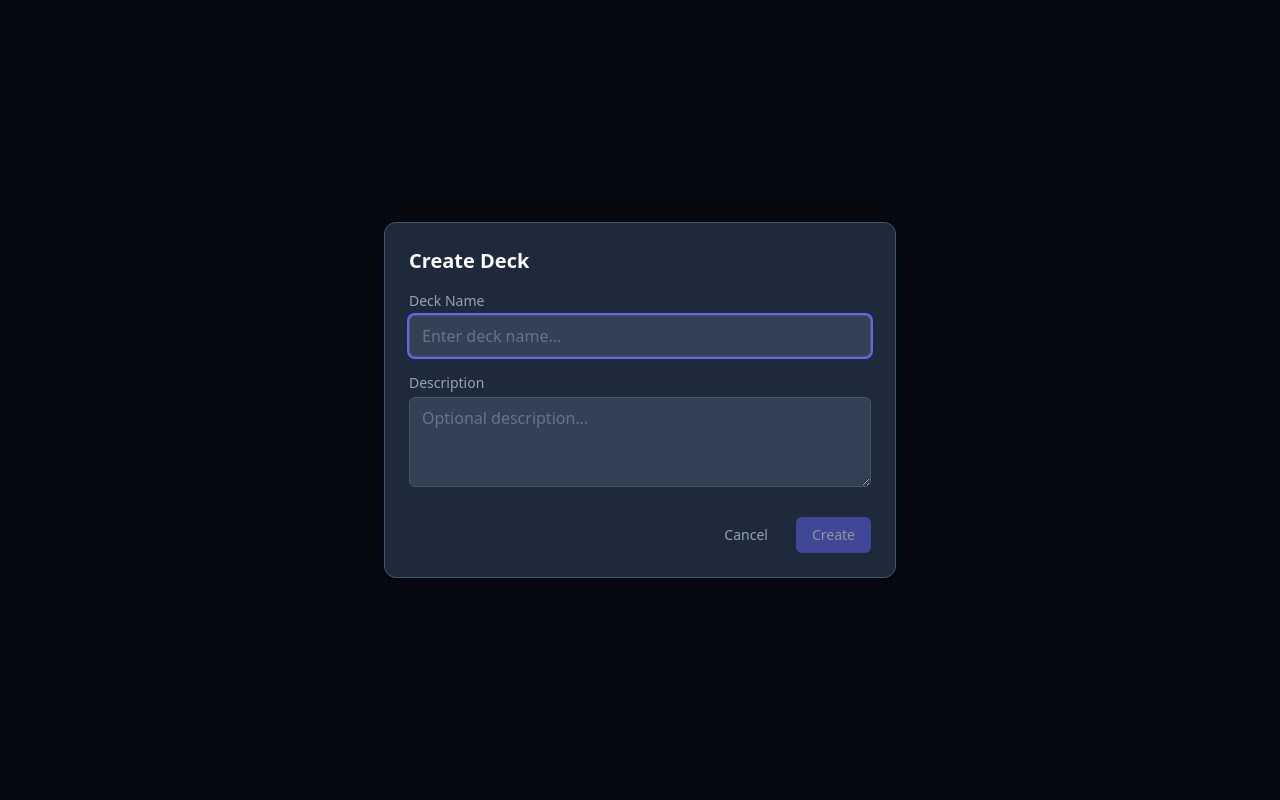
Test: DeckCreateModal › shows error on API failure
The width and height of the screenshot is (1280, 800).
Type "My Deck" into the field with test id "create-deck-name-input" at x=640, y=336, box [409,315,871,357]
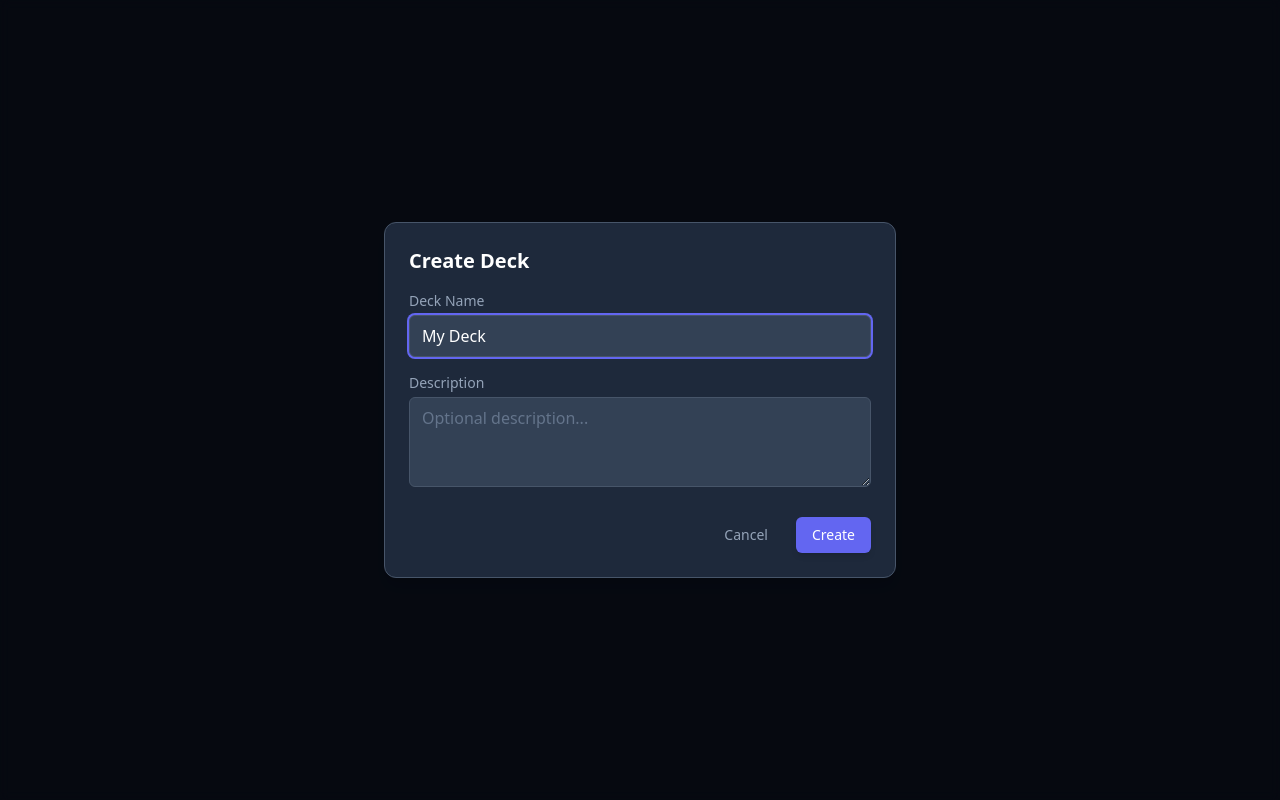
Click the button with test id "submit-create-btn" at x=833, y=535, box [796,517,871,553]
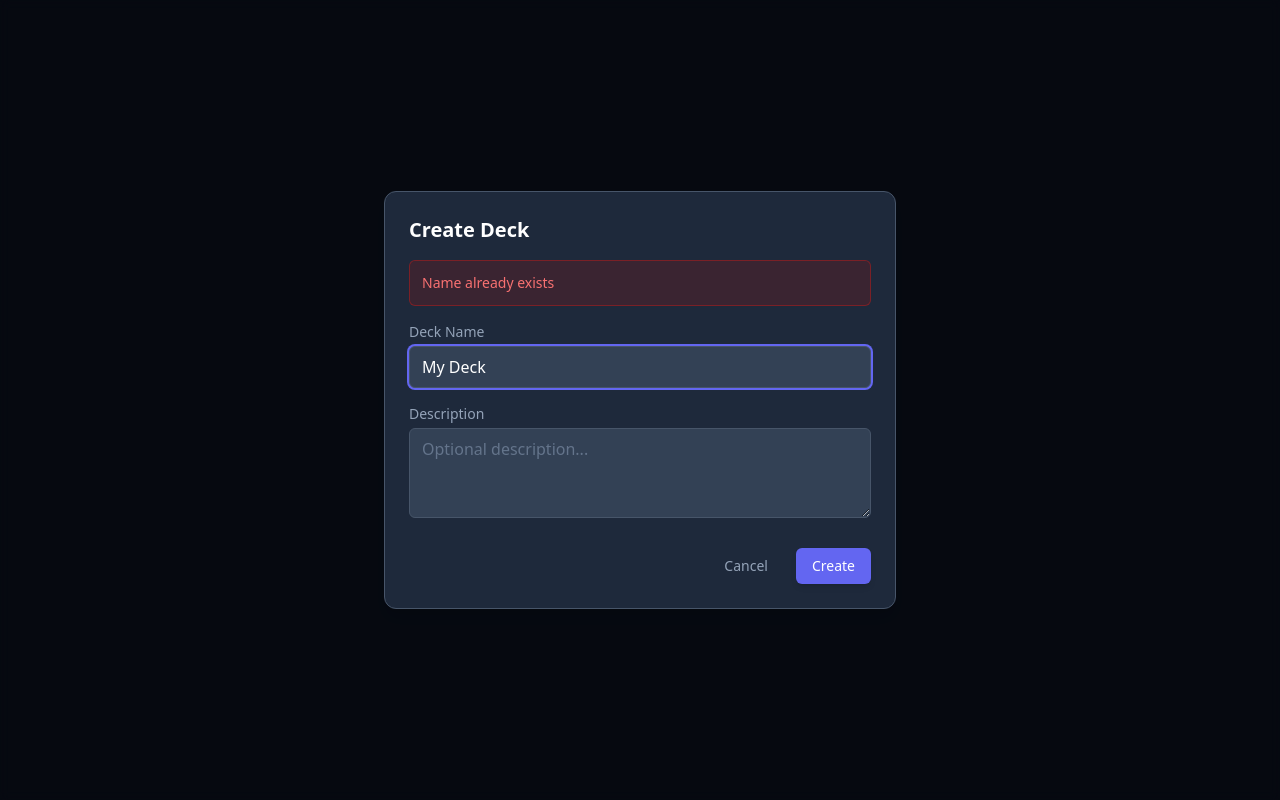
Expected: the text with test id "create-error" reads "Name already exists", [422,273,554,292]
